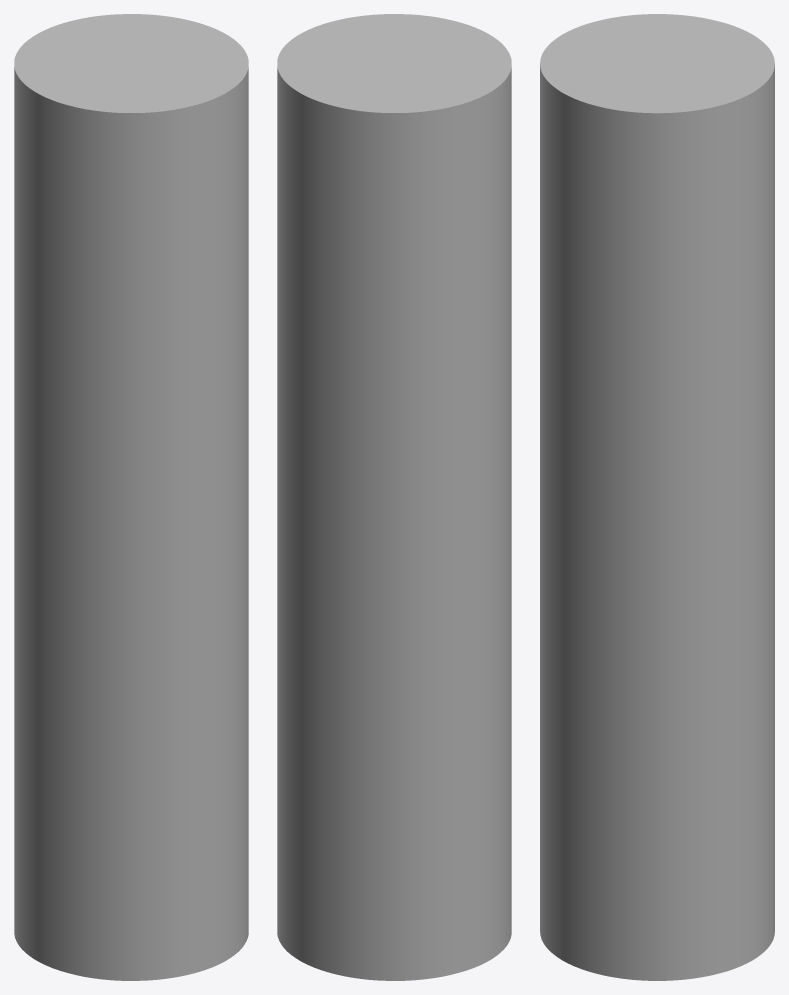
The model's file is Cilindro3.obj.
The picture shows the model from 3 angles, left to right: view 1: azimuth 30°, elevation 25°; view 2: azimuth 150°, elevation 25°; view 3: azimuth 270°, elevation 25°; orthographic projection.
Parts seen in each view (by area): view 1: mesh_id079; view 2: mesh_id079; view 3: mesh_id079.
Part boxes in pixels (x1,y1,x2,y2): mesh_id079: (14,14,248,980); mesh_id079: (277,14,511,980); mesh_id079: (540,14,774,980).
Bounding box in the file's own units: 0.131 × 0.534 × 0.131.
1 material, 1 textured.
